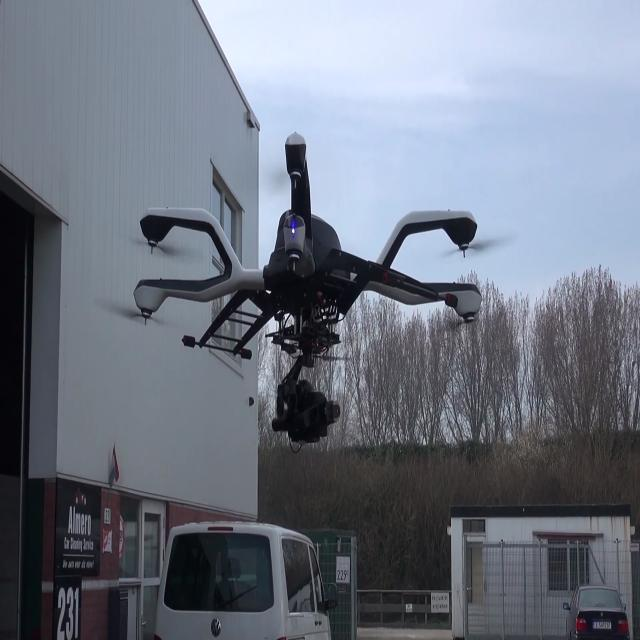drone: (111, 124, 492, 444)
